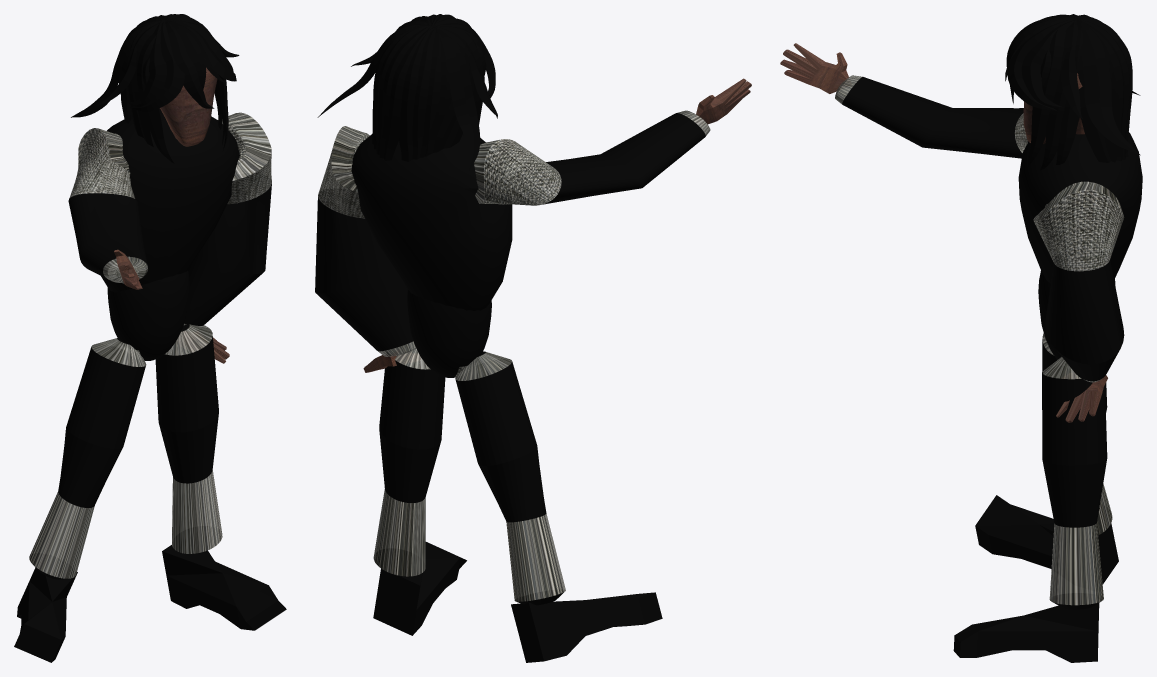
The model's file is Receptionist.glb.
3 renders of one model, left to right at view 1: azimuth 30°, elevation 25°; view 2: azimuth 150°, elevation 25°; view 3: azimuth 270°, elevation 25°, orthographic. The views are drawn at different scales.
Parts seen in each view (by area): view 1: Torso.001; view 2: Torso.001; view 3: Torso.001.
Boxes of the visible parts, box(x1,y1,x2,y2) form: Torso.001: box(14, 14, 286, 662); Torso.001: box(315, 14, 751, 662); Torso.001: box(780, 14, 1142, 662).
Size of the model in its own units: 8.73 by 16.79 by 8.75.
3 materials, 2 textured.
